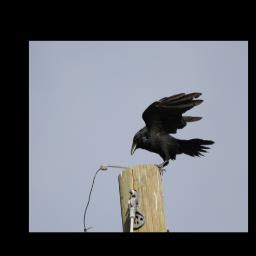Crow: (130, 91, 217, 174)
